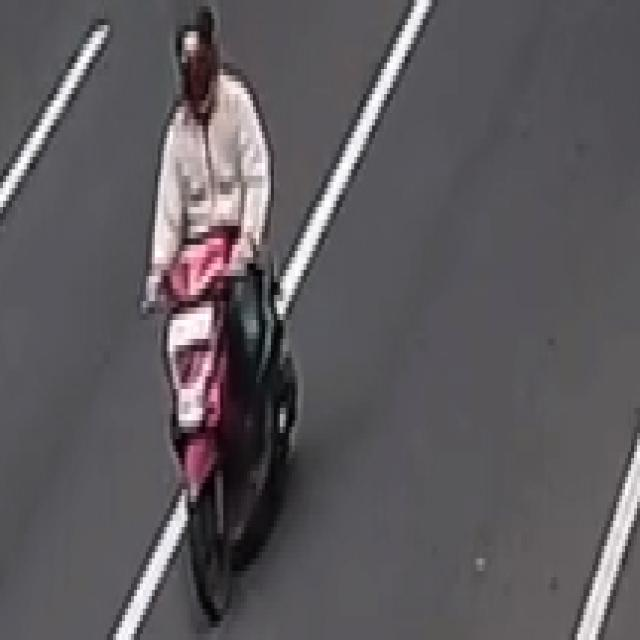helm: (170, 0, 225, 109)
motor: (141, 0, 310, 640)
